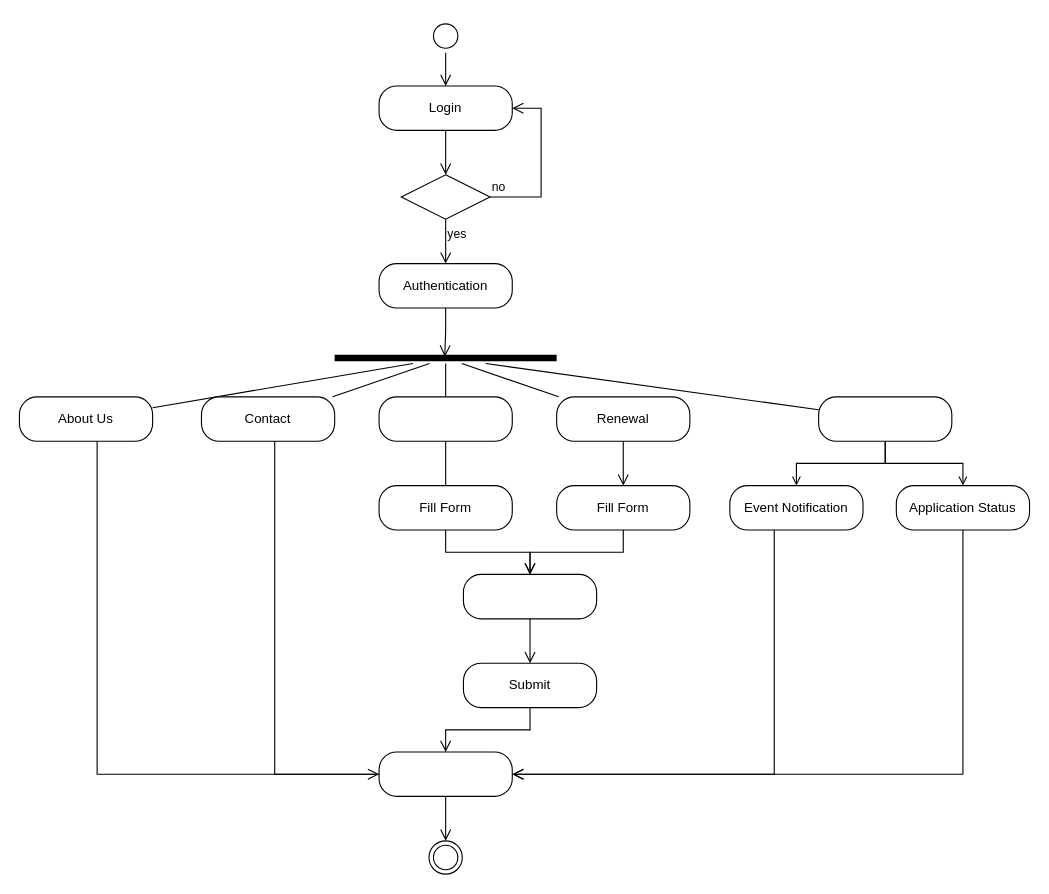
The diagram is 1049 pixels wide and 894 high, and some of its shapes have lost their labels. The shapes that lost their labels are listed below. From the top down, each one's centre as x and y in pixels, then its label:
At (x=445, y=196): "Validation".
At (x=445, y=418): "Fresh".
At (x=885, y=418): "Notification".
At (x=529, y=596): "E-mail verification".
At (x=445, y=773): "Logout".
